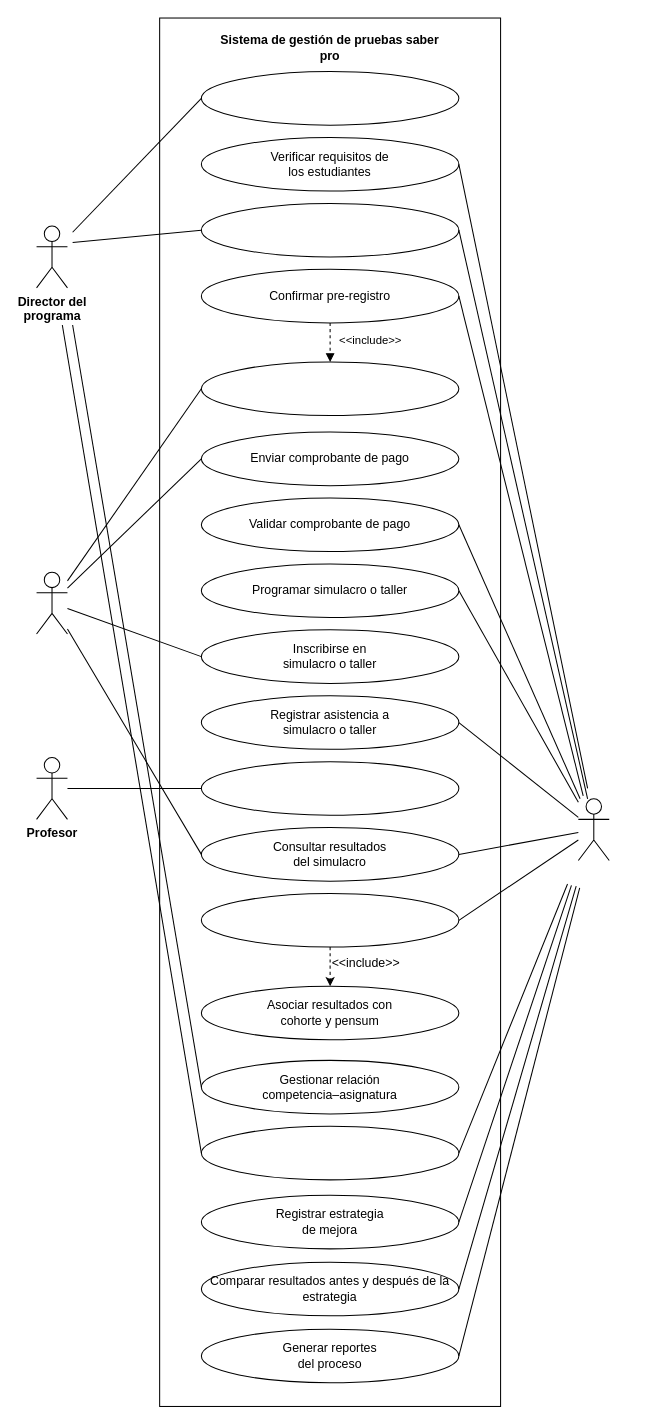
This 649x1424 diagram has some shape labels left out. The shapes that lost their labels are listed below. From the top down, each one's centre as x and y in pixels, then its label:
the point at 329,98: Enviar registros de los estudiantes
the point at 329,229: Enviar el listado de estudiantes habilitados
the point at 329,388: Notificar a los estudiantes
the point at 51,602: Estudiante
the point at 329,788: Registrar resultados del simulacro
the point at 593,829: Coordinador
the point at 329,919: Cargar resultados de la prueba Saber Pro
the point at 329,1152: Consultar trayectoria y resultados de los estudiantes
